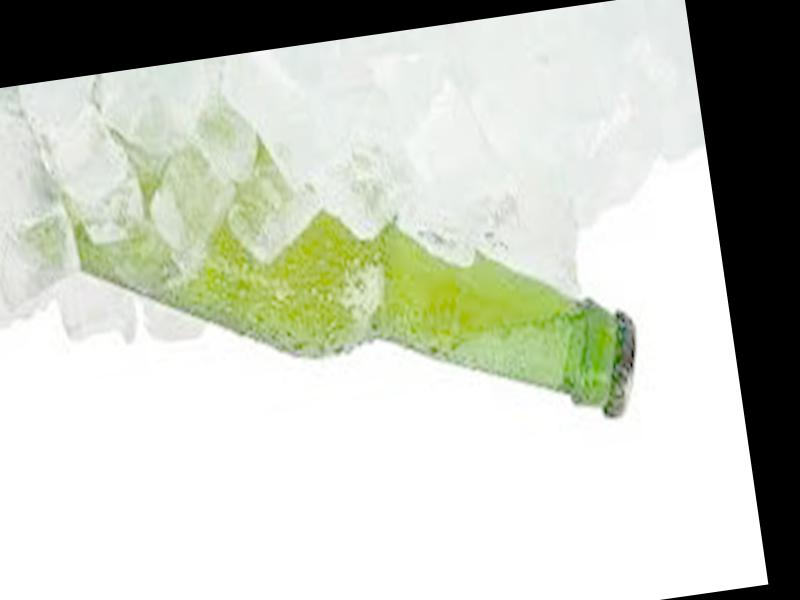Beer: (27, 116, 653, 491)
